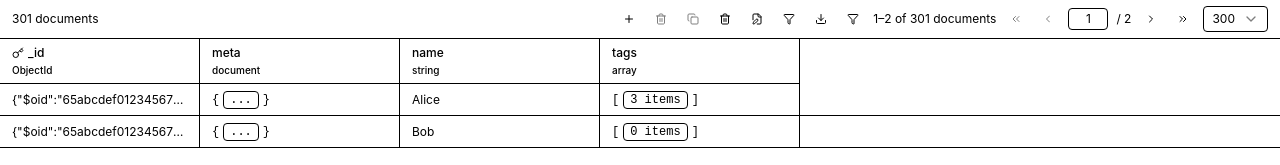
it: DocumentDataGrid › resets row selection when the user pages forward with Next
The width and height of the screenshot is (1280, 165).
Check: the text "Alice" is shown, box [412,92,440,108]
Click the text "Alice": [640, 100] box [0,84,1279,116]
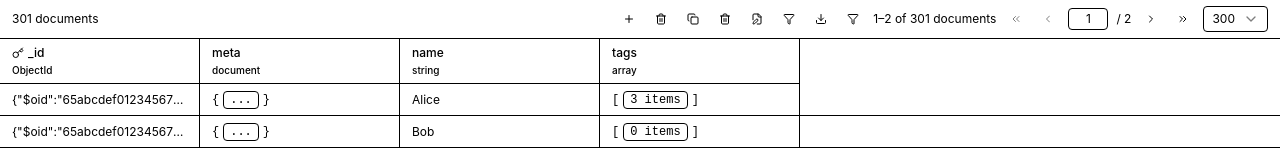
Click the button named "Next page": [1151, 19] box [1139,7,1163,31]
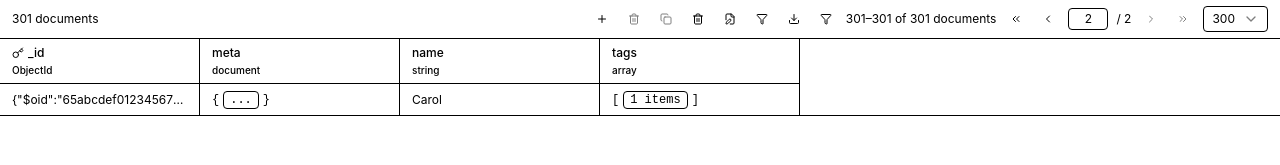
Check: the text "Carol" is shown, box [412,92,442,108]
